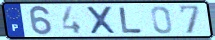0: (150, 6, 174, 35)
4: (61, 5, 83, 35)
6: (28, 5, 54, 36)
7: (178, 5, 202, 35)
L: (117, 6, 144, 34)
X: (85, 5, 119, 35)
